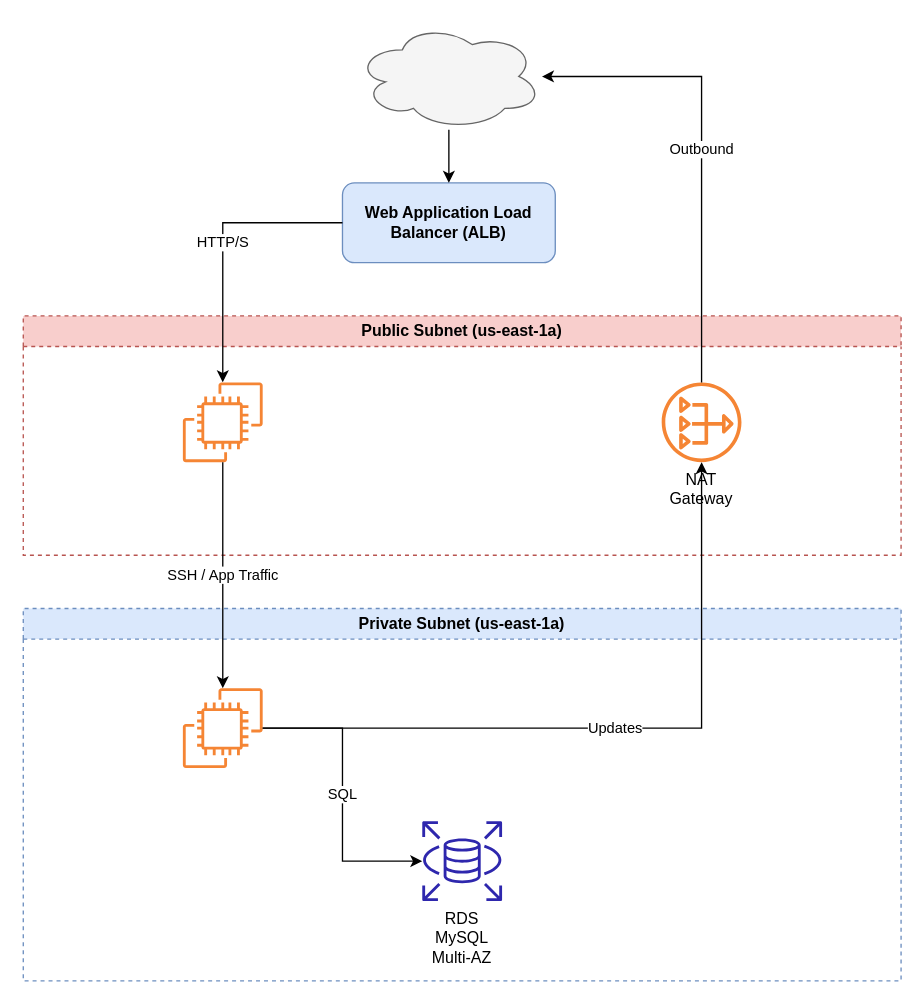
Some shapes in this 924 by 1004 pixel diagram are drawn without their labels. The box of each missing label's shape, as (x1, y1, x2, y2) in pixels:
EC2 Privada - Backend: (182, 688, 262, 767)
EC2 Pública - Web / Bastion: (182, 382, 262, 462)
Internet / Cliente: (354, 22, 542, 130)
